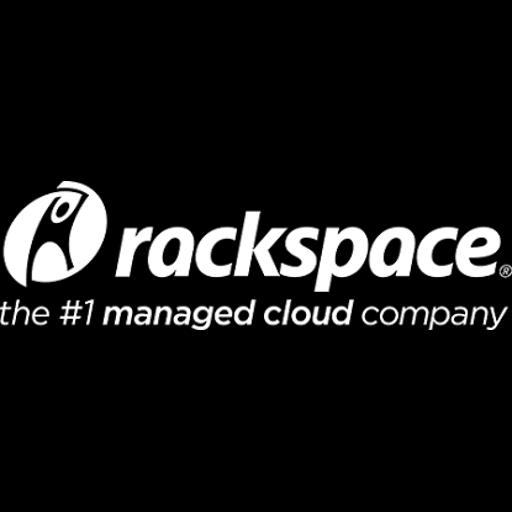Rackspace: (0, 181, 512, 330)
